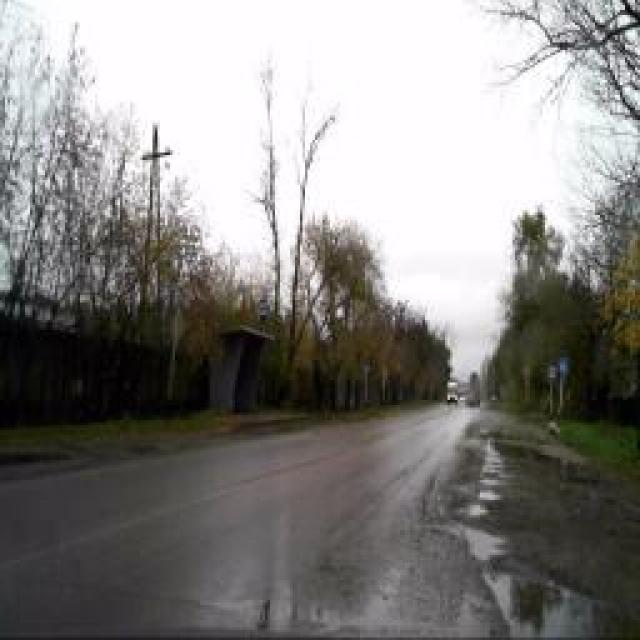sign: (559, 356, 569, 374)
